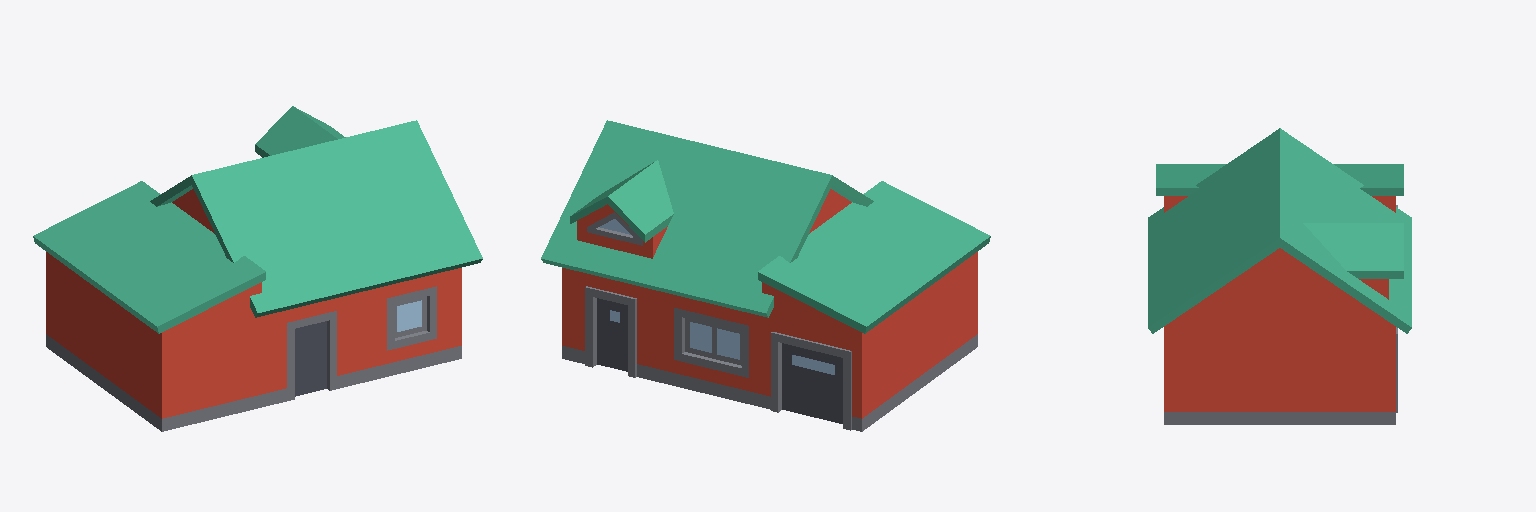
Rendered from house_type04.obj.
3 renders of one model, left to right at view 1: azimuth 30°, elevation 25°; view 2: azimuth 150°, elevation 25°; view 3: azimuth 270°, elevation 25°, orthographic.
Visible parts, largest first — view 1: house_type04; view 2: house_type04; view 3: house_type04.
Boxes of the visible parts, x1,y1,x2,y2 form: house_type04: [33, 106, 482, 431]; house_type04: [541, 120, 990, 431]; house_type04: [1148, 128, 1411, 424].
Size of the model in its own units: 1.29 by 0.7375 by 0.916.